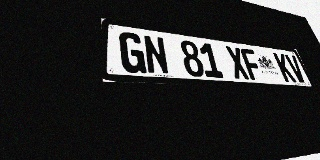1: (197, 42, 224, 78)
8: (179, 39, 206, 77)
F: (239, 48, 265, 80)
G: (119, 31, 147, 74)
K: (273, 52, 297, 82)
N: (142, 34, 170, 75)
V: (284, 54, 308, 83)
X: (225, 46, 250, 80)
